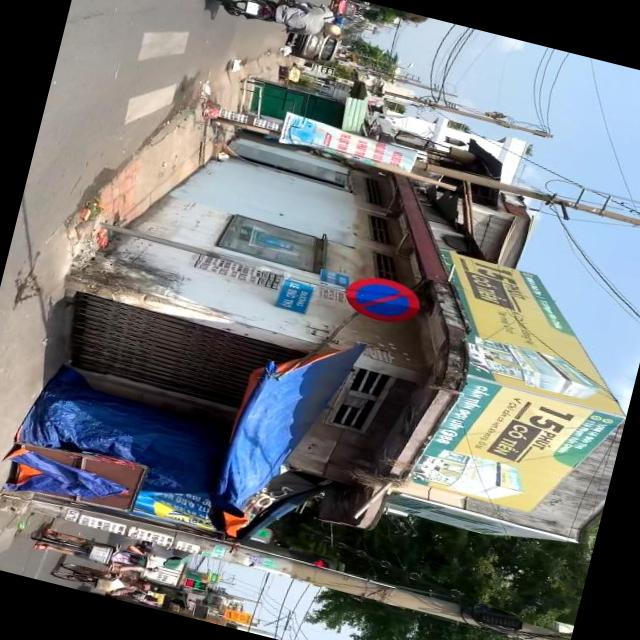P-131a: (339, 272, 425, 330)
